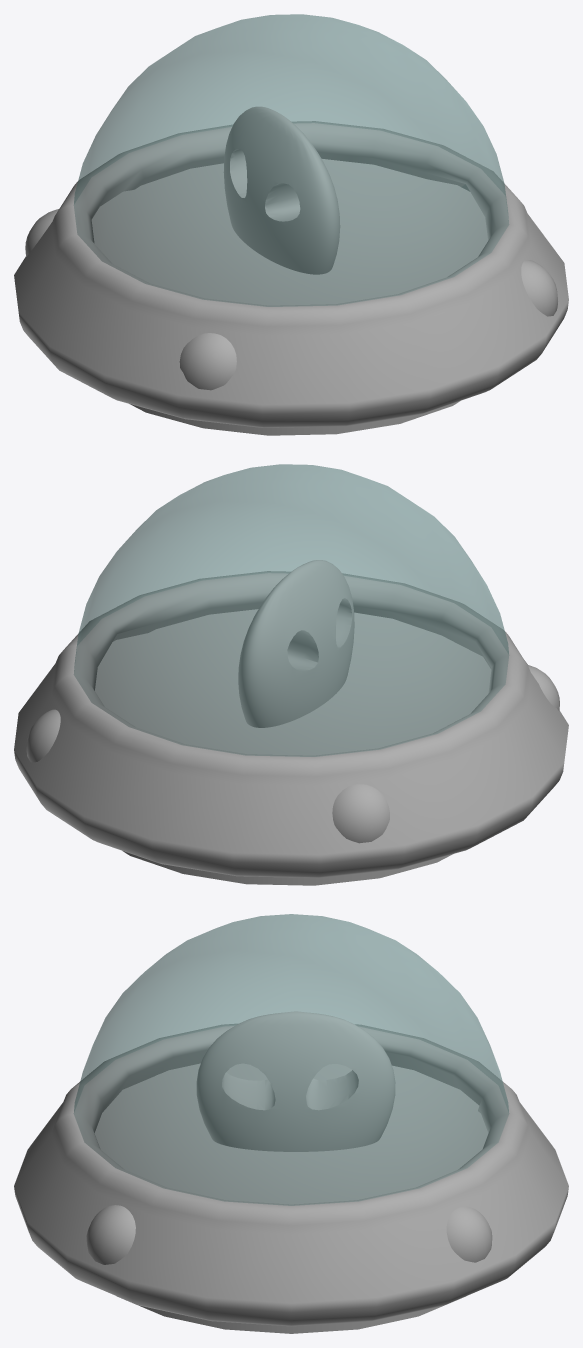
Rendered from flyer2.fbx.
3 renders of one model, top to bottom at view 1: azimuth 30°, elevation 25°; view 2: azimuth 150°, elevation 25°; view 3: azimuth 270°, elevation 25°, orthographic.
Visible parts, largest first — view 1: pSphere4, pTorus1, pCylinder2, pSphere3, pasted__pasted__pasted__pSphere5, pSphere5, pasted__pasted__pSphere5; view 2: pSphere4, pTorus1, pCylinder2, pSphere3, pasted__pasted__pSphere5, pasted__pSphere5, pasted__pasted__pasted__pSphere5; view 3: pSphere4, pTorus1, pCylinder2, pSphere3, pSphere5, pasted__pSphere5.
Part boxes in pixels (x1=…): pSphere4: x1=73, y1=14, x2=508, y2=306; pTorus1: x1=14, y1=121, x2=568, y2=427; pCylinder2: x1=91, y1=159, x2=487, y2=435; pSphere3: x1=223, y1=106, x2=340, y2=274; pasted__pasted__pasted__pSphere5: x1=179, y1=333, x2=236, y2=390; pSphere5: x1=521, y1=260, x2=557, y2=316; pasted__pasted__pSphere5: x1=25, y1=209, x2=58, y2=256; pSphere4: x1=74, y1=464, x2=509, y2=756; pTorus1: x1=14, y1=571, x2=568, y2=877; pCylinder2: x1=95, y1=609, x2=491, y2=885; pSphere3: x1=238, y1=560, x2=354, y2=727; pasted__pasted__pSphere5: x1=332, y1=784, x2=389, y2=843; pasted__pSphere5: x1=26, y1=709, x2=60, y2=762; pasted__pasted__pasted__pSphere5: x1=527, y1=664, x2=559, y2=710; pSphere4: x1=73, y1=914, x2=509, y2=1205; pTorus1: x1=14, y1=1024, x2=568, y2=1326; pCylinder2: x1=94, y1=1063, x2=488, y2=1333; pSphere3: x1=196, y1=1011, x2=395, y2=1151; pSphere5: x1=86, y1=1205, x2=135, y2=1264; pasted__pSphere5: x1=446, y1=1206, x2=492, y2=1262.
Bounding box in the file's own units: 12.86 × 7.88 × 12.86.
